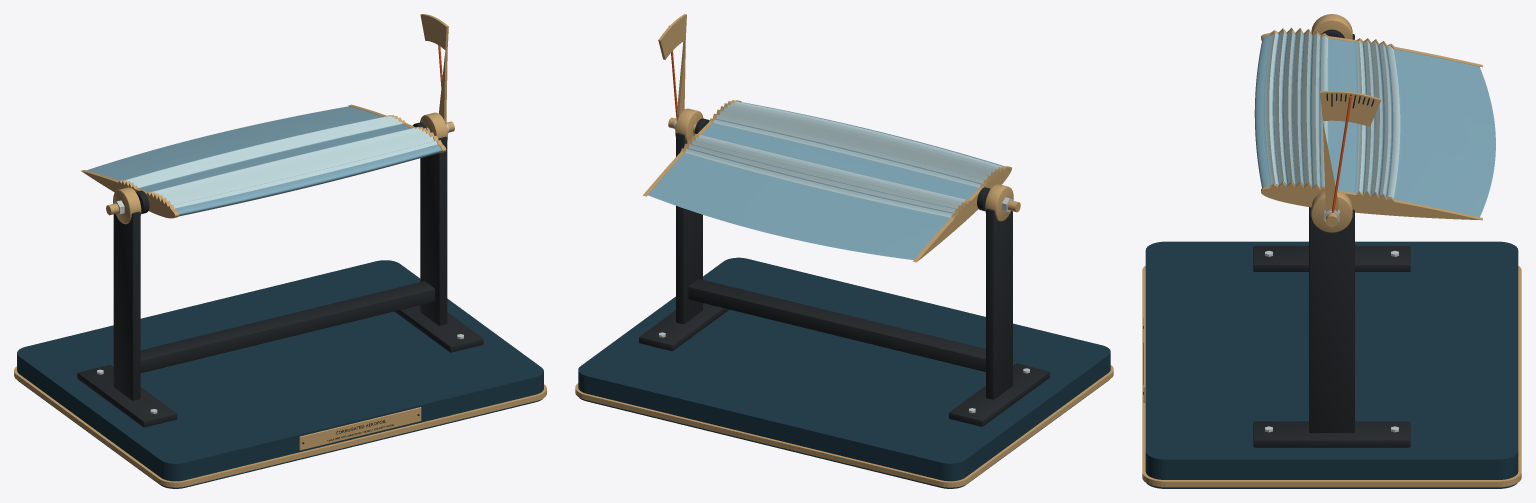
The model's file is wing.glb.
3 views of the same model, side by side, from view 1: azimuth 30°, elevation 25°; view 2: azimuth 150°, elevation 25°; view 3: azimuth 270°, elevation 25° (orthographic). The views are drawn at different scales.
Visible parts, largest first — view 1: M_enamel_blue, M_alu_dark, M_wing_skin, M_wing_ridge, M_brass; view 2: M_enamel_blue, M_wing_skin, M_alu_dark, M_wing_ridge, M_brass; view 3: M_enamel_blue, M_wing_skin, M_alu_dark, M_wing_ridge, M_brass.
Part boxes in pixels (x1,y1,x2,y2): M_enamel_blue: (17,260,543,488); M_alu_dark: (77,122,483,427); M_wing_skin: (87,106,441,216); M_wing_ridge: (124,116,437,208); M_brass: (14,14,546,487); M_enamel_blue: (578,257,1110,488); M_wing_skin: (648,102,1004,260); M_alu_dark: (639,118,1049,426); M_wing_ridge: (685,101,1001,217); M_brass: (575,14,1113,487); M_enamel_blue: (1145,241,1518,488); M_wing_skin: (1254,34,1495,217); M_alu_dark: (1253,29,1410,447); M_wing_ridge: (1265,30,1400,198); M_brass: (1142,14,1521,487).
Size of the model in its own units: 0.365 by 0.2934 by 0.265.
